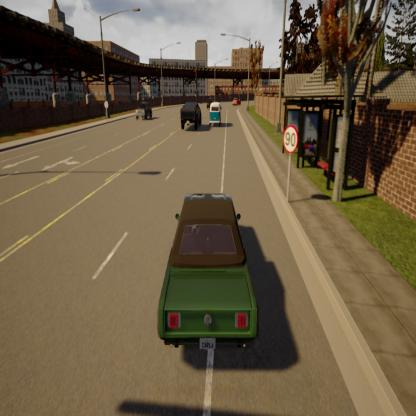Cars: (154, 161, 270, 373), (176, 97, 205, 137), (132, 97, 157, 126), (208, 99, 224, 132), (231, 95, 243, 108)
